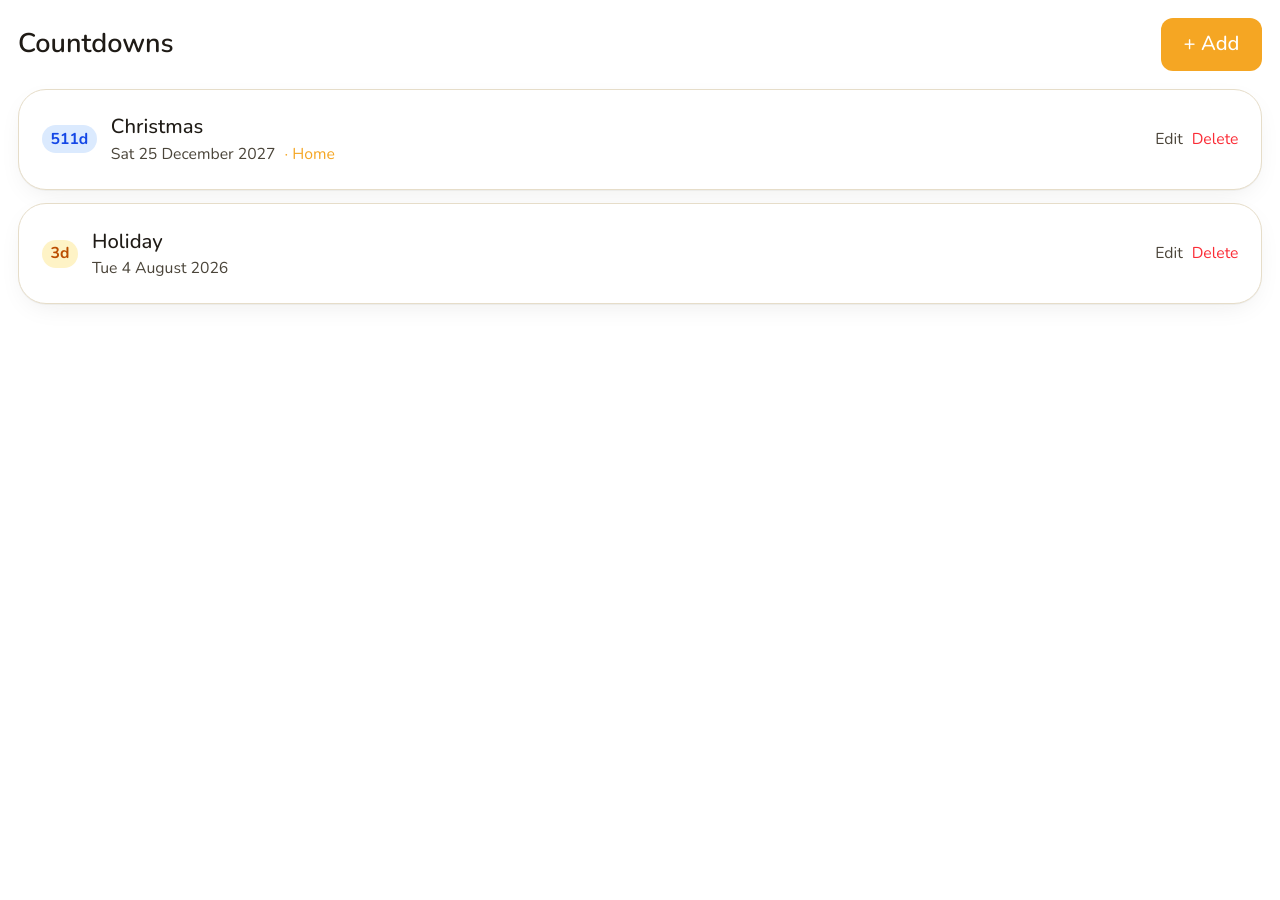
it: CountdownList › opens form modal when Add button clicked
Expected: the text "Christmas" is shown, [111,113,203,140]
Click the button "+ Add". click: click(1212, 44)
box: [1161,18,1262,71]
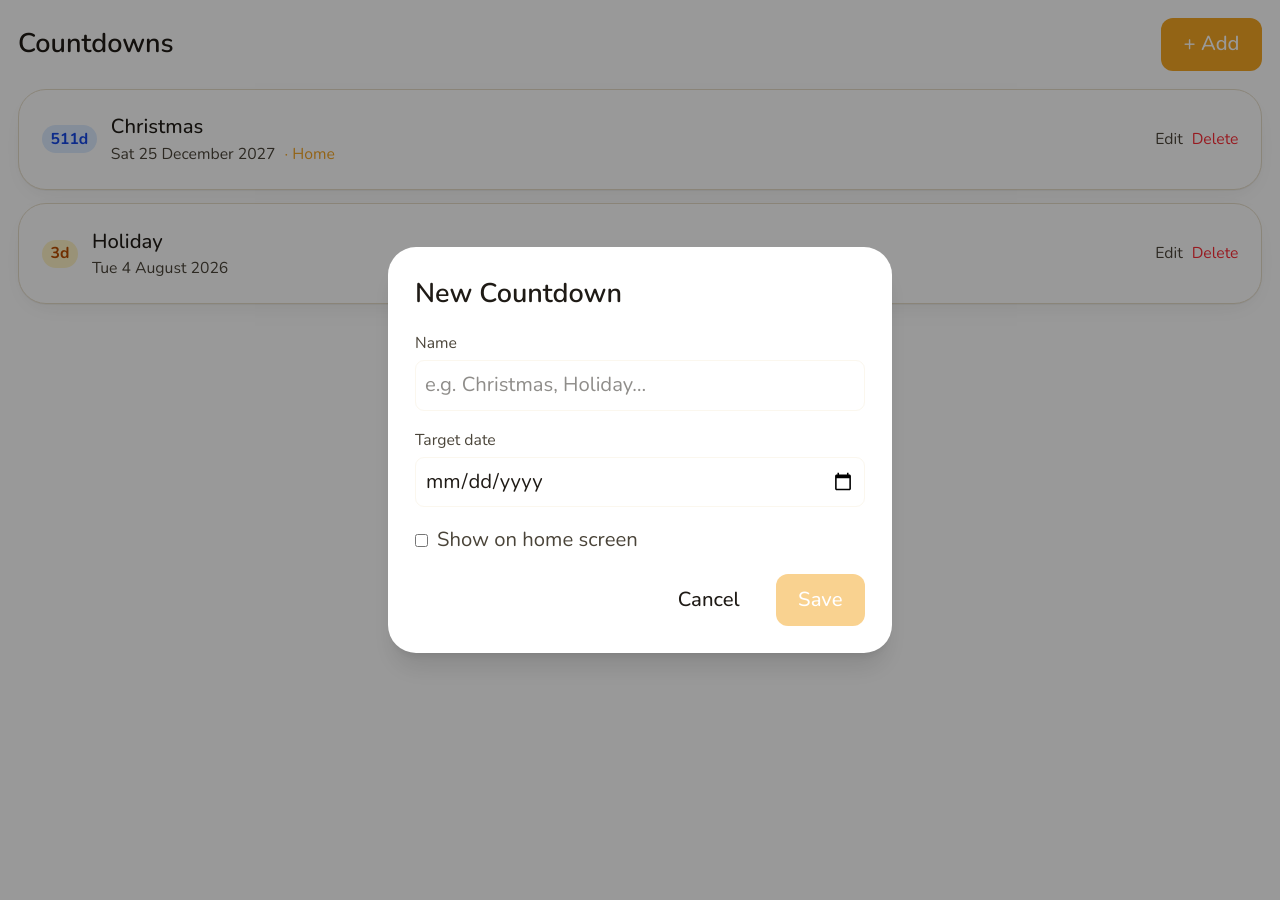
Result: the heading "New Countdown" is shown at [415,275,622,312]
